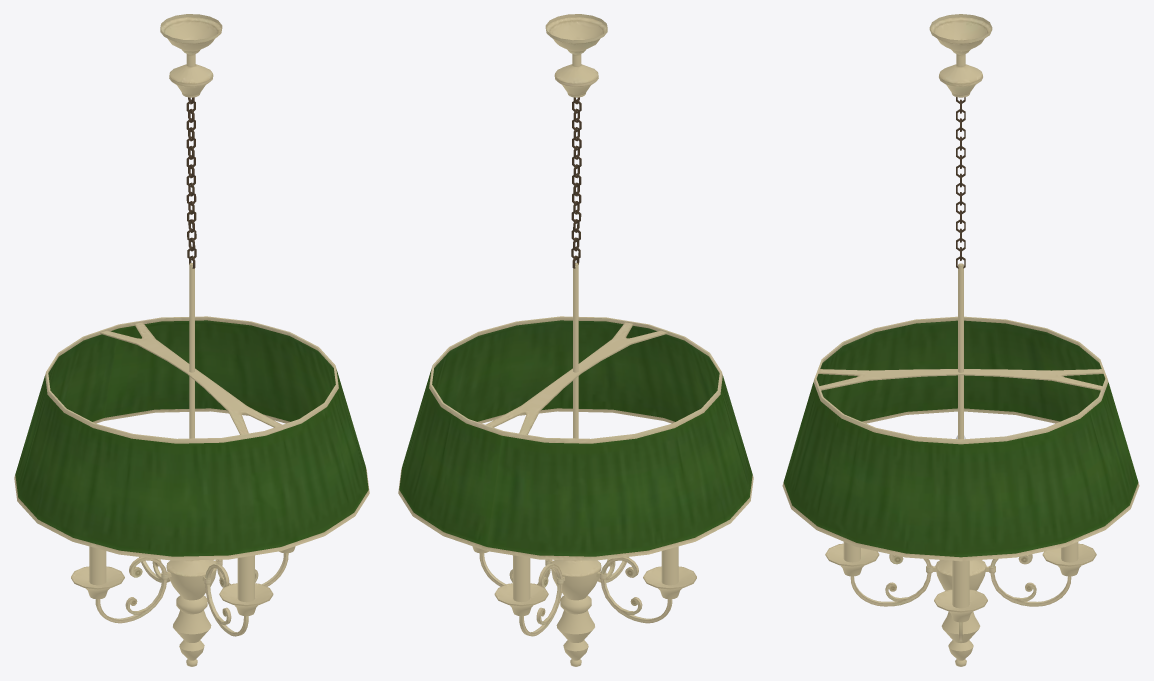
The model's file is chandelier_7058ee.glb.
3 views of the same model, side by side, from view 1: azimuth 30°, elevation 25°; view 2: azimuth 150°, elevation 25°; view 3: azimuth 270°, elevation 25° (orthographic).
Visible parts, largest first — view 1: Object_2; view 2: Object_2; view 3: Object_2.
Part boxes in pixels (x1,y1,x2,y2): Object_2: (14, 14, 369, 666); Object_2: (398, 14, 753, 666); Object_2: (782, 14, 1139, 666).
Size of the model in its own units: 19.73 by 38.98 by 19.73.
1 material, 1 textured.
